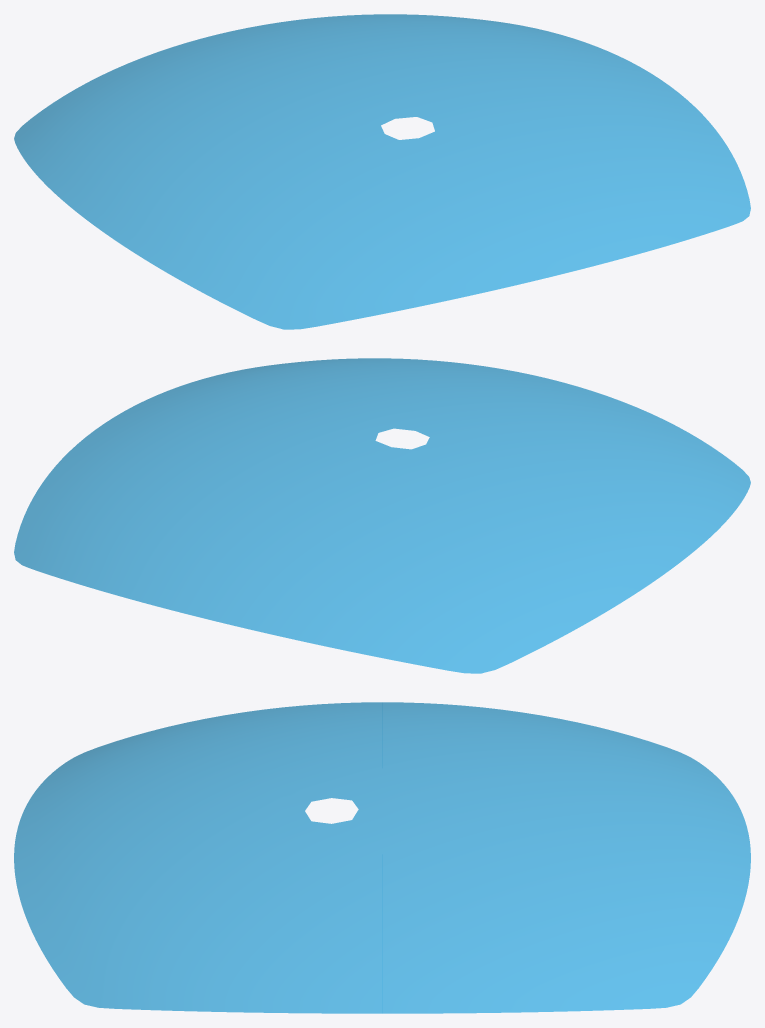
The model's file is water.glb.
3 renders of one model, top to bottom at view 1: azimuth 30°, elevation 25°; view 2: azimuth 150°, elevation 25°; view 3: azimuth 270°, elevation 25°, orthographic. The views are drawn at different scales.
Visible parts, largest first — view 1: water; view 2: water; view 3: water.
Part boxes in pixels (x1,y1,x2,y2): water: [14, 14, 750, 329]; water: [14, 358, 750, 673]; water: [14, 702, 750, 1013].
Bounding box in the file's own units: 177 × 18.7 × 177.
